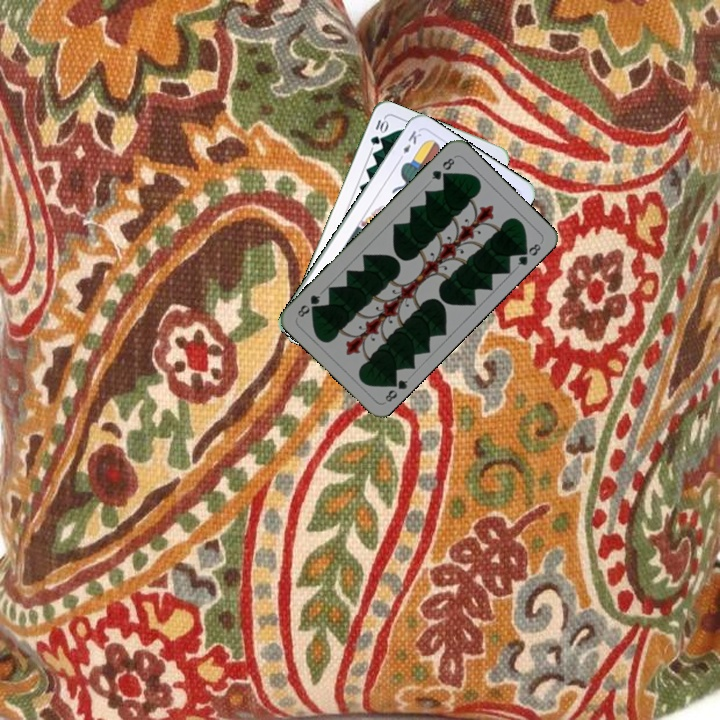EK: (394, 126, 424, 164)
G10: (366, 115, 390, 148)
G8: (381, 373, 411, 405), (427, 154, 457, 183)
